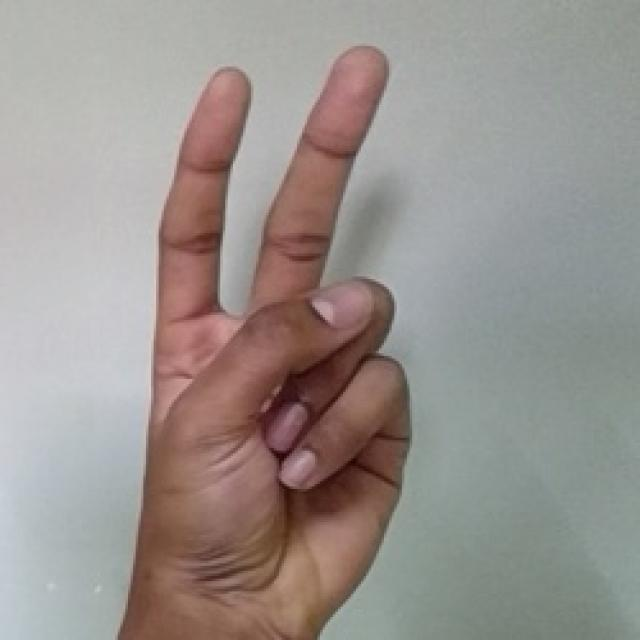Numeric-2: (130, 40, 410, 586)
